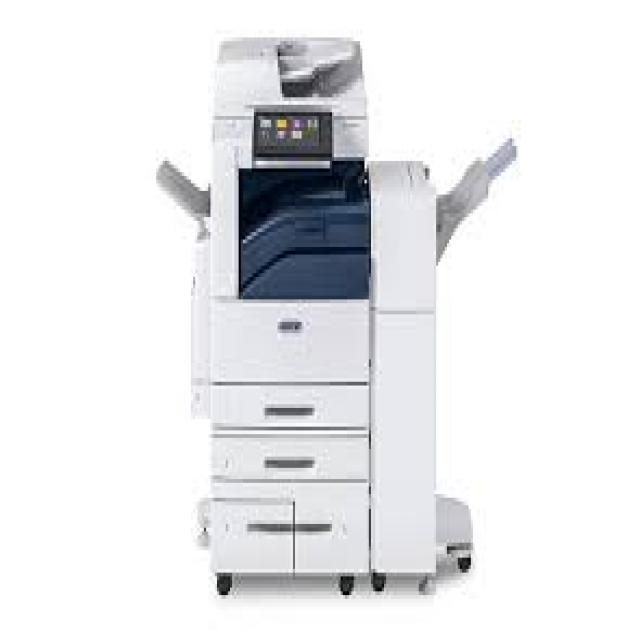printer: (134, 22, 532, 614)
